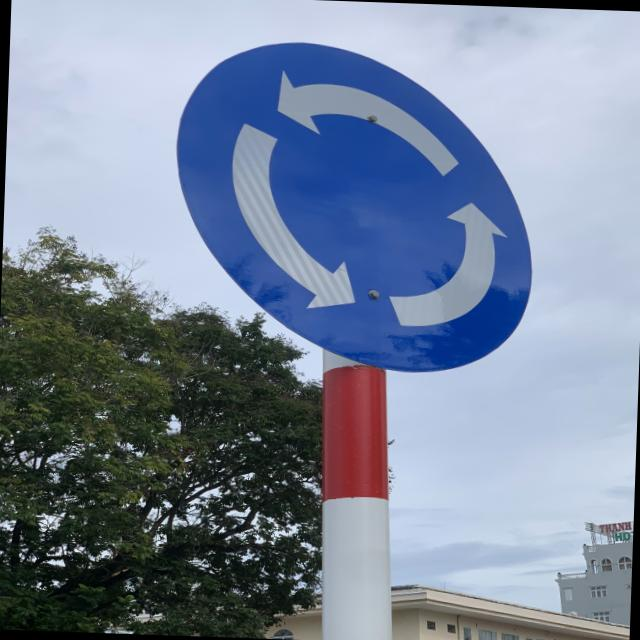Xe_Bus: (169, 35, 541, 378)
